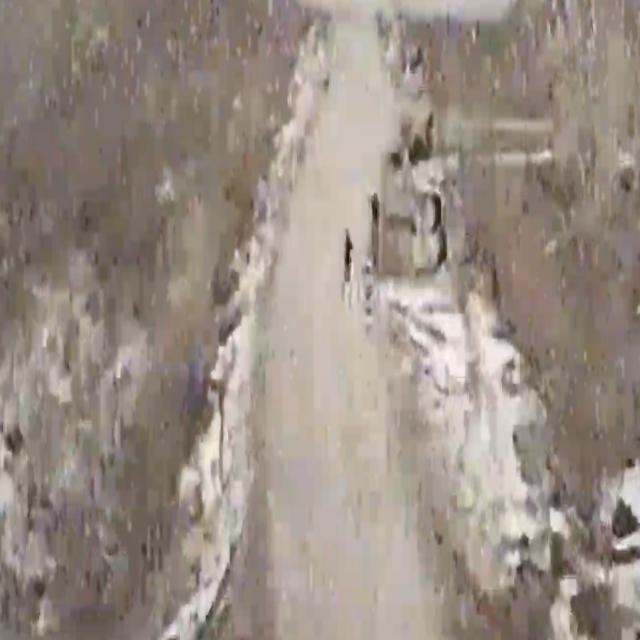infantry: (366, 186, 382, 256), (342, 224, 355, 286)
vehicle: (406, 174, 455, 281)
